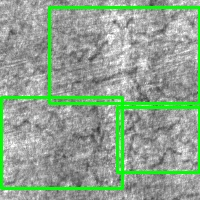crazing: (49, 7, 199, 103), (1, 97, 122, 188), (117, 107, 199, 172)
